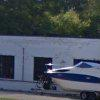Boat: (45, 53, 100, 97)
